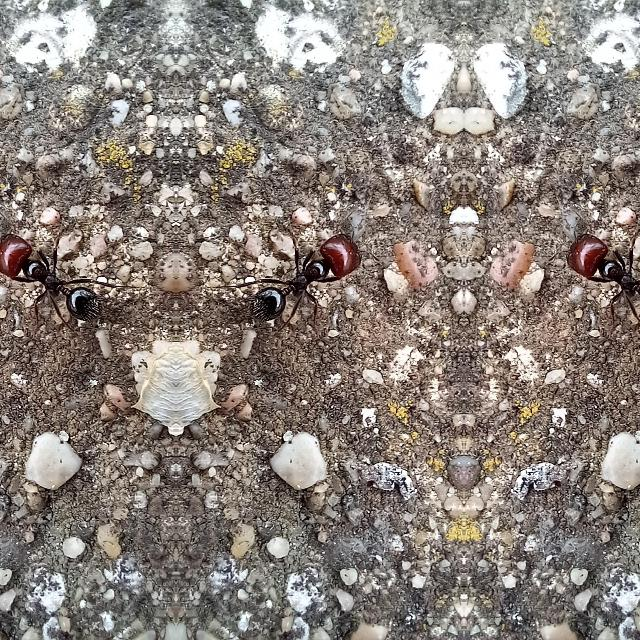Messor: (231, 221, 371, 339), (0, 221, 121, 339), (557, 221, 640, 339)
